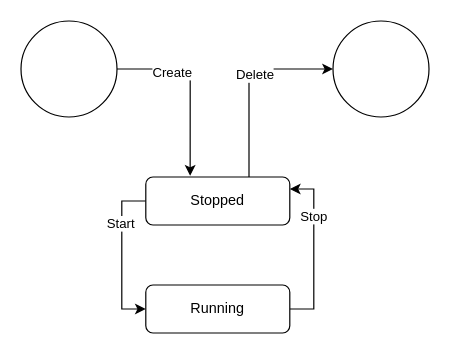
This 450x354 diagram has some shape labels left out. Each missing label, with the centre of its shape:
created: [68,68]
Deleted: [380,68]
